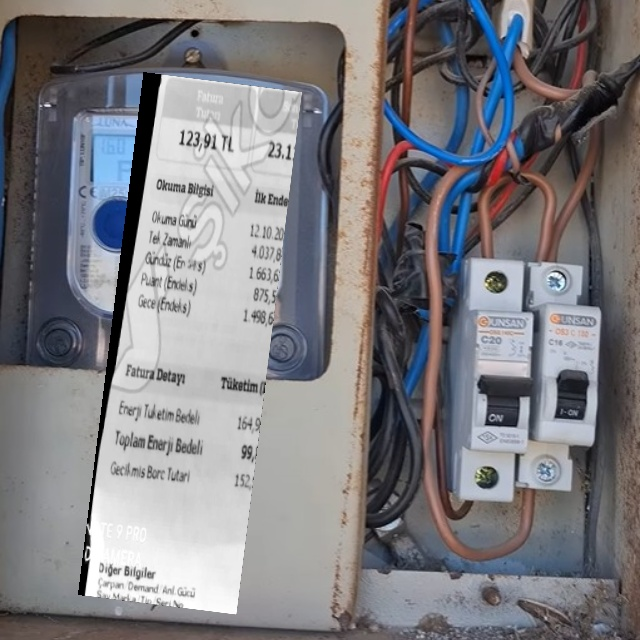electricity-bill: (78, 71, 302, 614)
